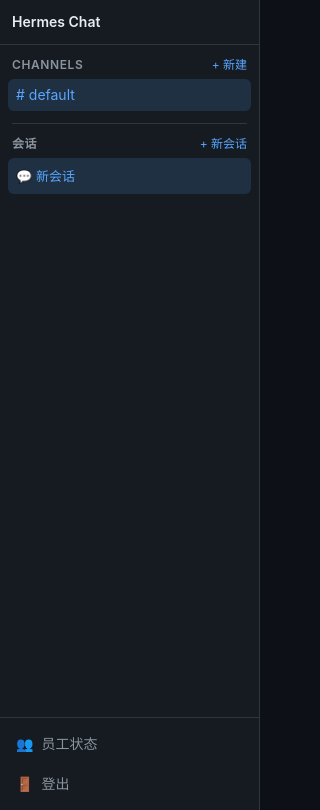
Sidebar › shows new channel input
The width and height of the screenshot is (320, 810).
Click the button "+ 新建": (229, 65) x1=212 y1=57 x2=247 y2=73
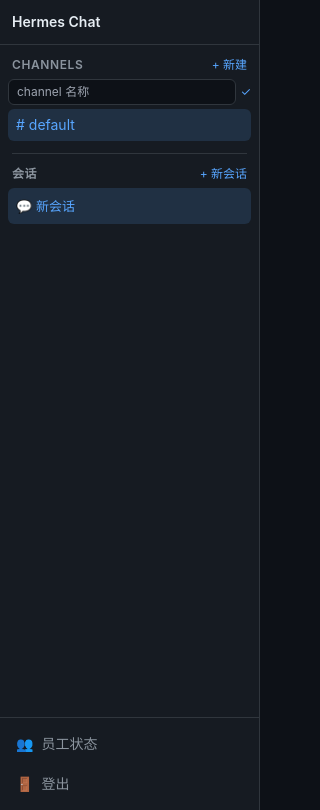
Result: the field with placeholder "channel 名称" is shown at x1=8 y1=79 x2=236 y2=105
